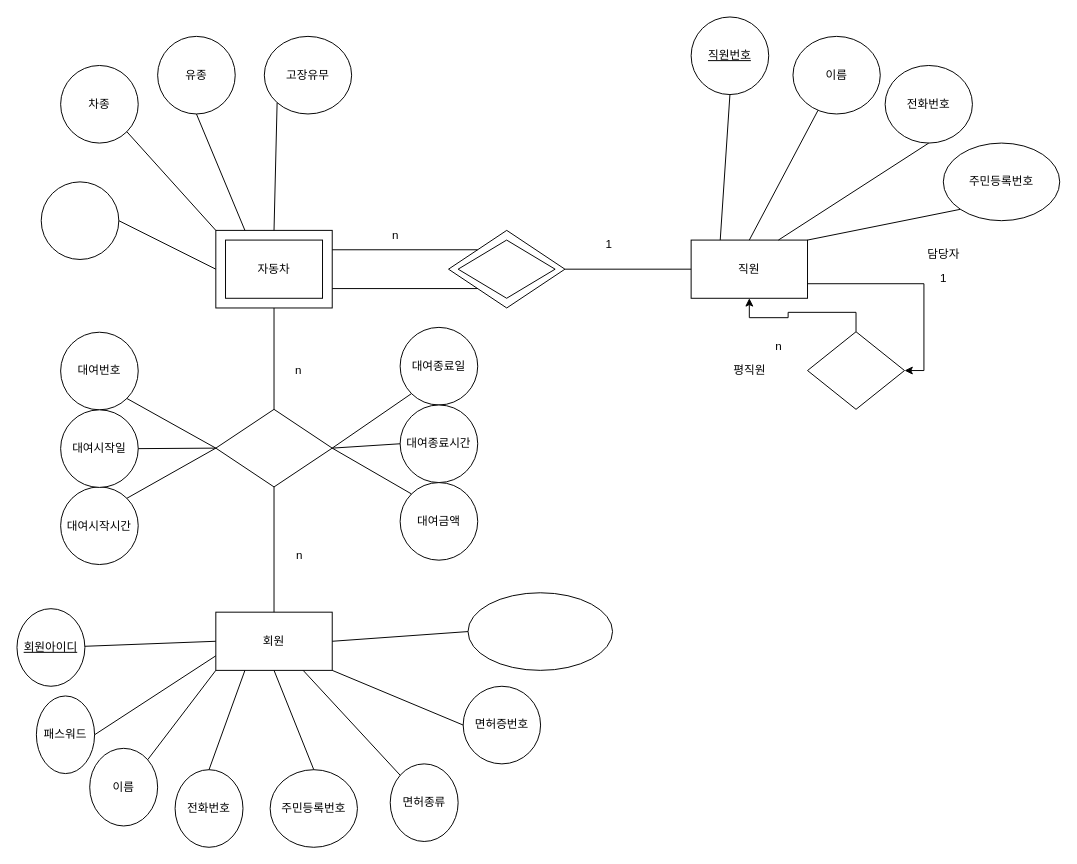
Some shapes in this 1077 by 864 pixel diagram are drawn without their labels. The centre of each missing label's shape, as x and y in pixels:
관리: the point at 506,268
담당: the point at 856,370
대여: the point at 273,447
차량번호: the point at 79,220
최근3개월내사고여부: the point at 540,631
